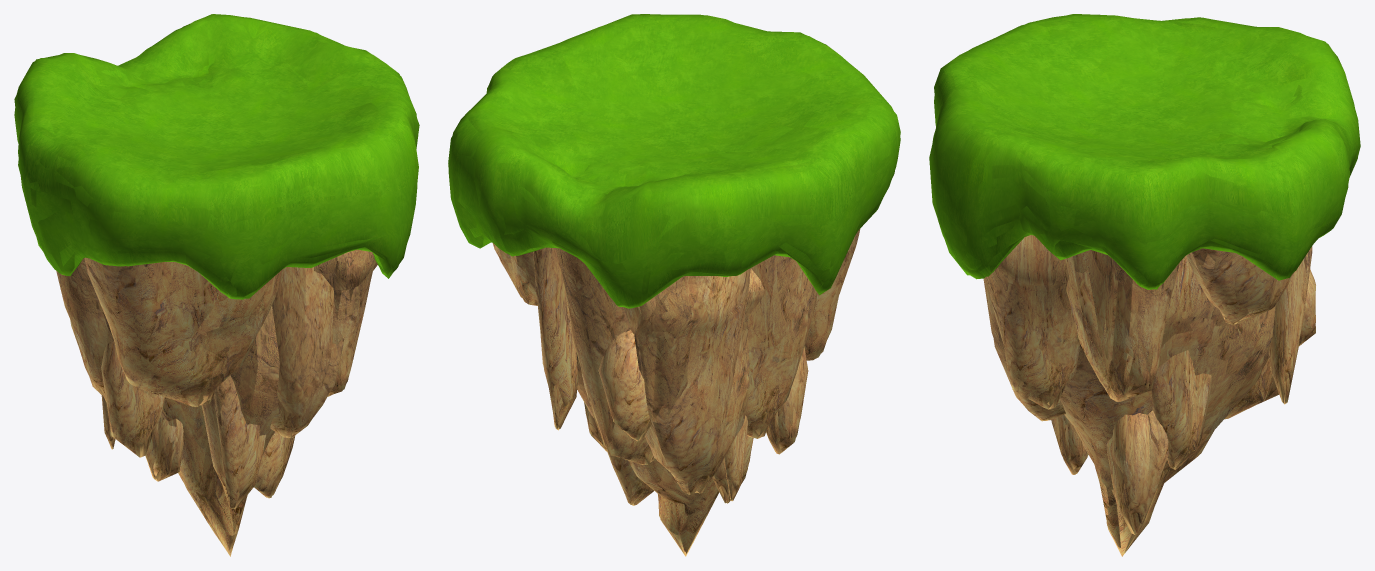
File: Floating_GardenBLOD.fbx
3 views of the same model, side by side, from view 1: azimuth 30°, elevation 25°; view 2: azimuth 150°, elevation 25°; view 3: azimuth 270°, elevation 25° (orthographic). The views are drawn at different scales.
Parts seen in each view (by area): view 1: Floating_Land_B.LOD1, Floating_Land_B.LOD2; view 2: Floating_Land_B.LOD1, Floating_Land_B.LOD2; view 3: Floating_Land_B.LOD1, Floating_Land_B.LOD2.
Part boxes in pixels (x1=…): Floating_Land_B.LOD1: x1=14, y1=14, x2=418, y2=550; Floating_Land_B.LOD2: x1=14, y1=14, x2=419, y2=556; Floating_Land_B.LOD1: x1=448, y1=14, x2=900, y2=553; Floating_Land_B.LOD2: x1=448, y1=14, x2=900, y2=556; Floating_Land_B.LOD1: x1=930, y1=14, x2=1359, y2=552; Floating_Land_B.LOD2: x1=929, y1=14, x2=1360, y2=556.
Size of the model in its own units: 37.13 by 45.68 by 37.61.
